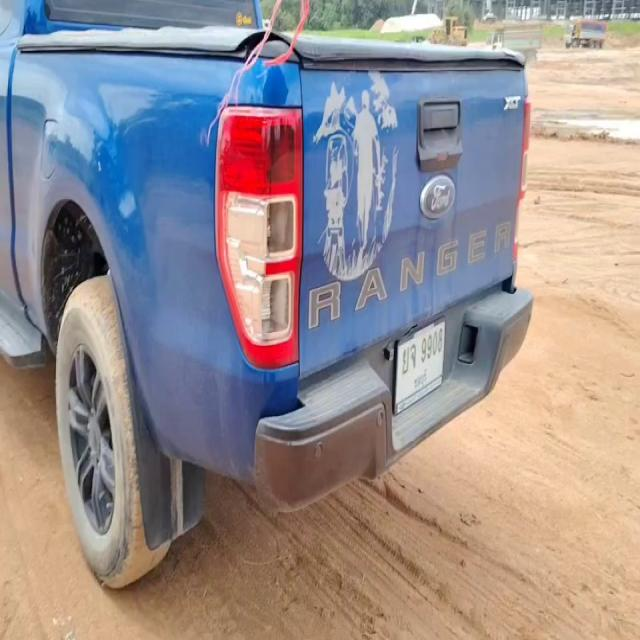Digit: (420, 328, 444, 365)
Licenseplate: (394, 313, 447, 419)
Provincename: (414, 369, 429, 390)
Thaichar: (403, 341, 416, 375)
